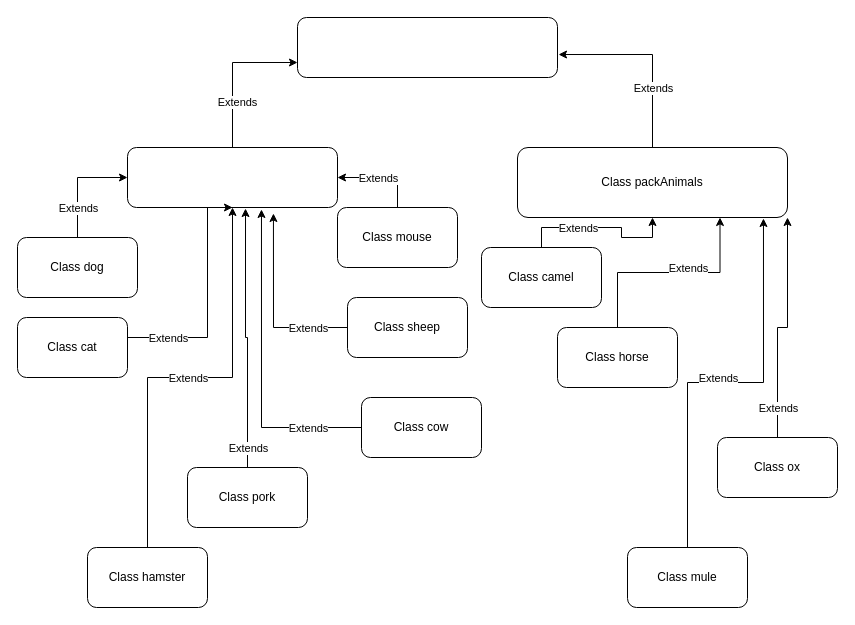
This 855x625 diagram has some shape labels left out. The shapes that lost their labels are listed below. From the top down, each one's centre as x and y in pixels, then its label:
point (427, 47): Class Animals
point (232, 177): Class homeAnimals
